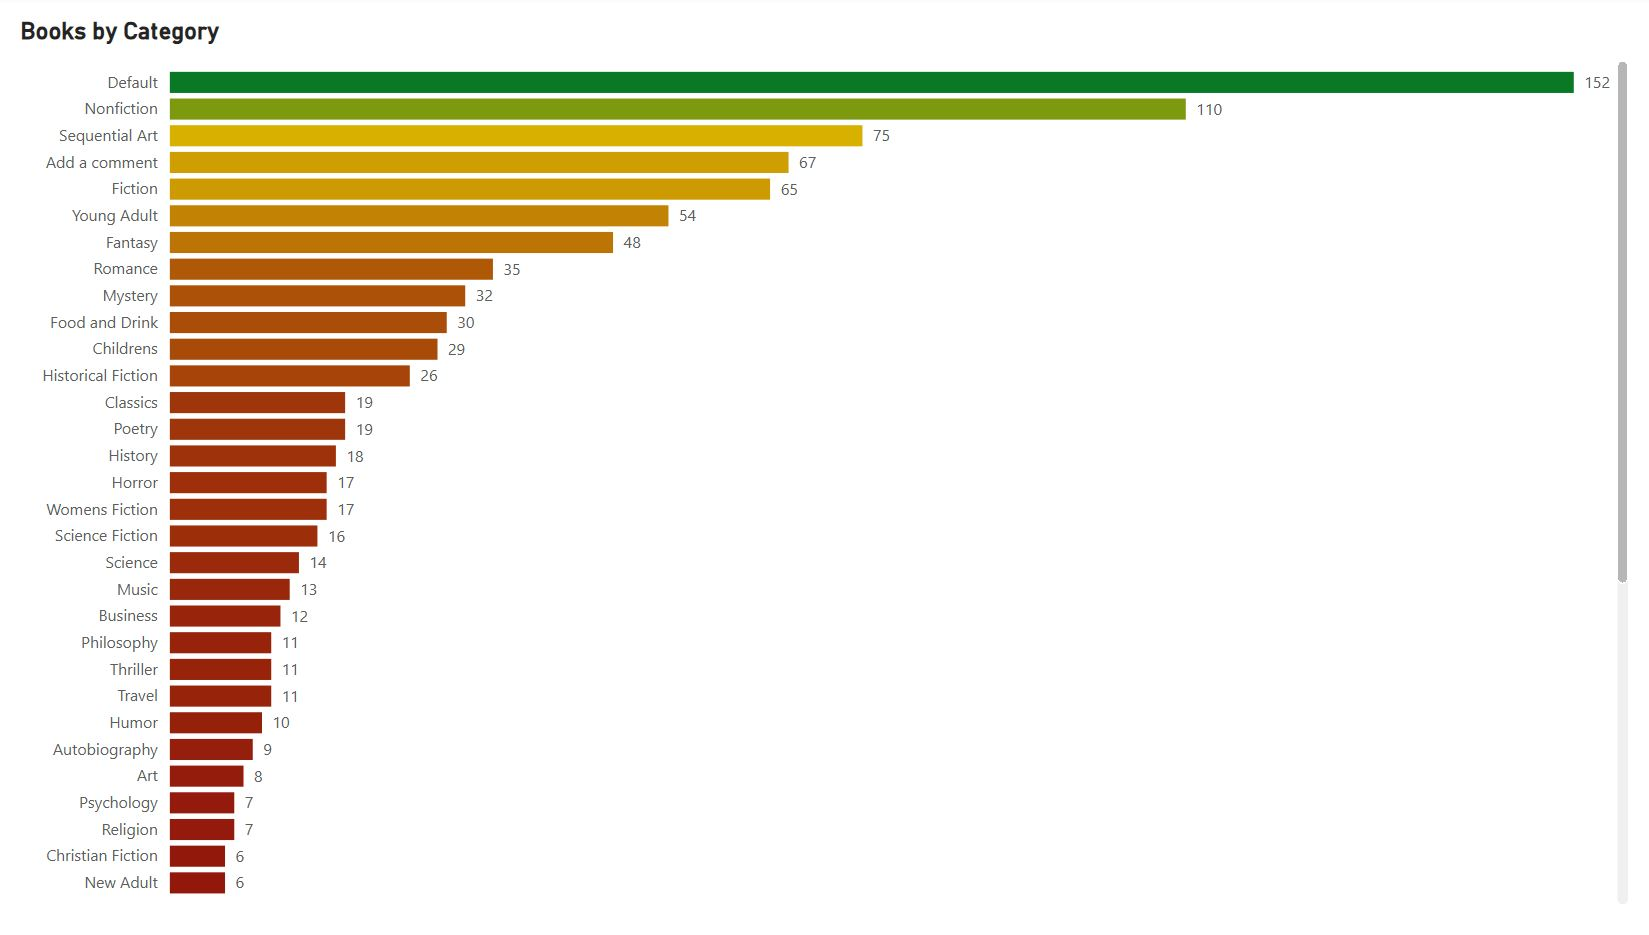

The page's visual inventory and layout, read from the dashboard file:
{"tool":"powerbi","page":{"name":"books_by_category","canvas":[1280,720],"ordinal":1},"visuals":[{"type":"clusteredBarChart","title":"Books by Category","fields":{"Category":["books_data.Category"],"Y":["CountNonNull(books_data.Title)"]},"box":[22.7,18.9,1228.9,677.9],"z":0}]}

Visuals, with their boxes in screenshot pixels (x1, y1, x2, y2), scaled from the page's 1280x720 canvas onto the 1649x935 screenshot:
"Books by Category" clusteredBarChart: (x1=29, y1=25, x2=1612, y2=905)
